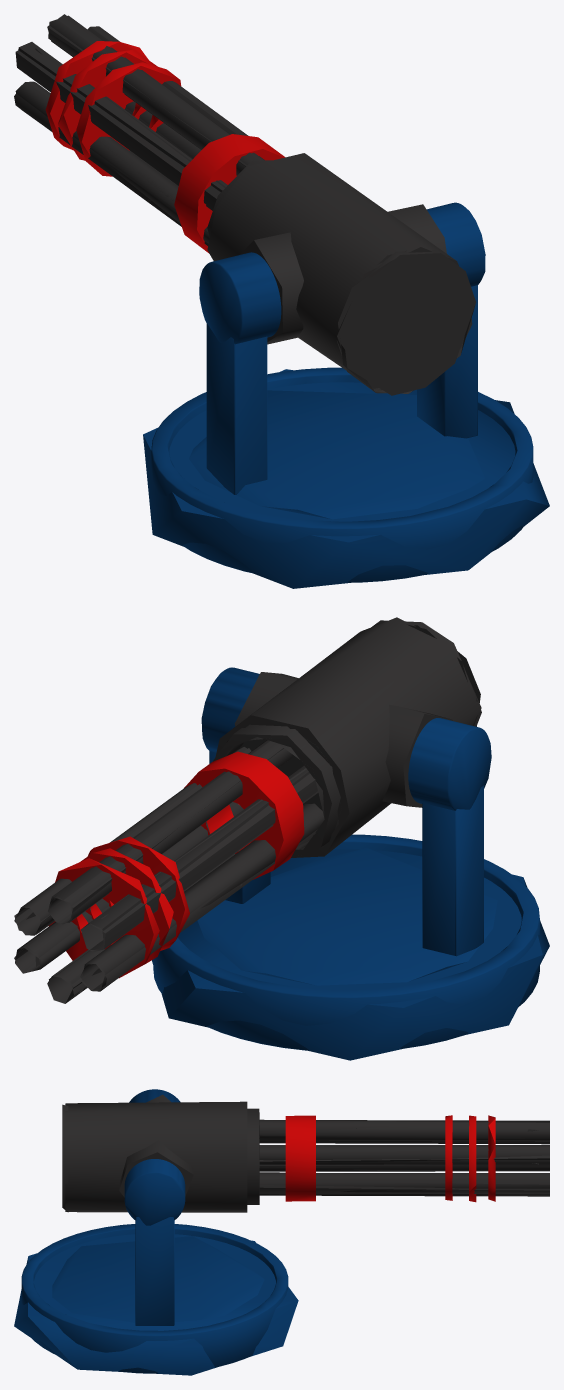
Rendered from Gatling Gun Turret ReducedPolygons.fbx.
The picture shows the model from 3 angles, top to bottom: view 1: azimuth 30°, elevation 25°; view 2: azimuth 150°, elevation 25°; view 3: azimuth 270°, elevation 25°; orthographic projection. The views are drawn at different scales.
Parts seen in each view (by area): view 1: Cylinder_10_7_3_1, Cylinder_5_3_1, Tube_6_1_3, Cylinder_1_10_1_3_1; view 2: Cylinder_10_7_3_1, Cylinder_5_3_1, Tube_6_1_3, Cylinder_1_10_1_3_1; view 3: Cylinder_10_7_3_1, Cylinder_5_3_1, Tube_6_1_3, Cylinder_1_10_1_3_1.
Part boxes in pixels (x1,y1,x2,y2): Cylinder_10_7_3_1: (14,14,475,395); Cylinder_5_3_1: (143,369,549,588); Tube_6_1_3: (151,202,533,582); Cylinder_1_10_1_3_1: (45,41,285,253); Cylinder_10_7_3_1: (14,617,481,1003); Cylinder_5_3_1: (152,848,549,1060); Tube_6_1_3: (153,667,539,1050); Cylinder_1_10_1_3_1: (49,751,304,978); Cylinder_10_7_3_1: (62,1094,549,1212); Cylinder_5_3_1: (14,1234,298,1375); Tube_6_1_3: (21,1089,288,1373); Cylinder_1_10_1_3_1: (285,1115,495,1202).
Bounding box in the file's own units: 476 × 380 × 883.
